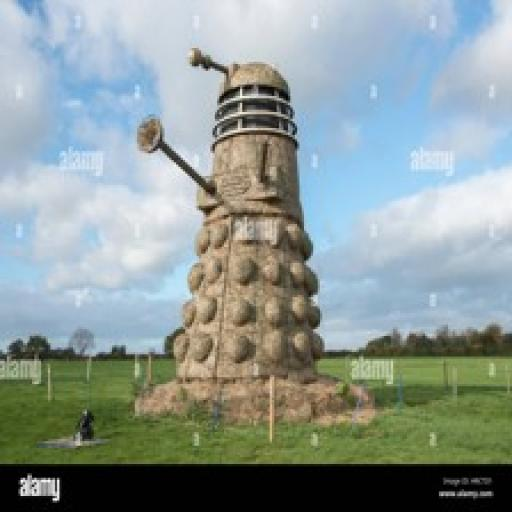dalek: (120, 48, 334, 396)
